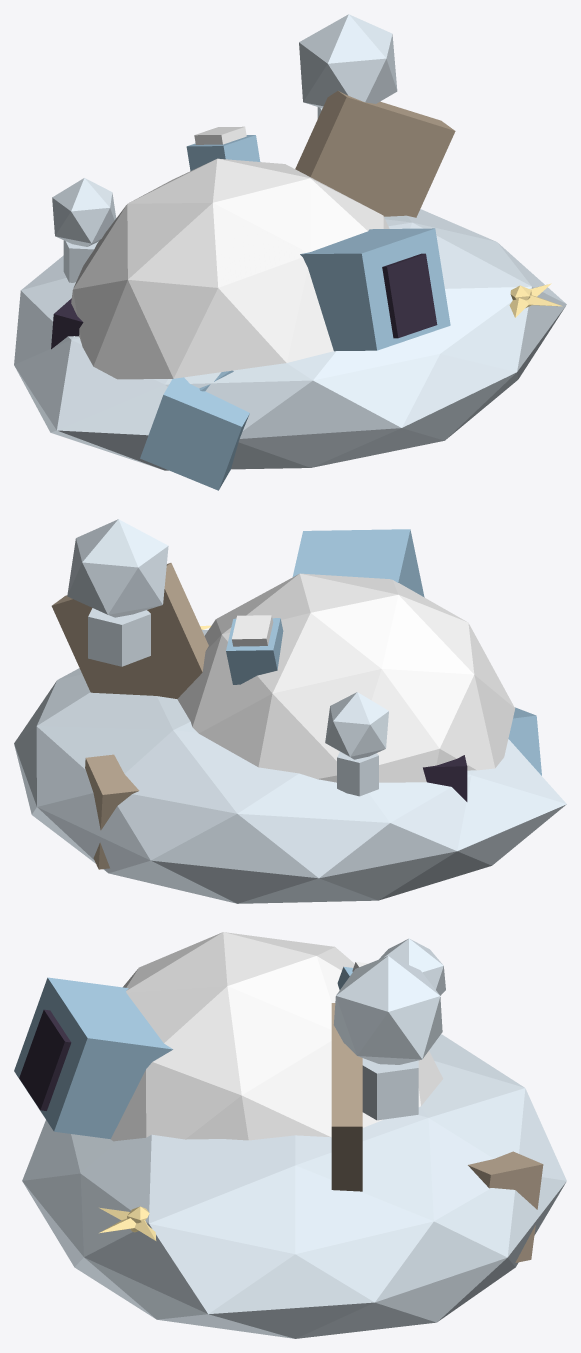
The model's file is ice-ruin.glb.
3 views of the same model, one above another, from view 1: azimuth 30°, elevation 25°; view 2: azimuth 150°, elevation 25°; view 3: azimuth 270°, elevation 25° (orthographic). The views are drawn at different scales.
Visible parts, largest first — view 1: ice-ruin; view 2: ice-ruin; view 3: ice-ruin.
Boxes of the visible parts, x1,y1,x2,y2 form: ice-ruin: [14, 14, 566, 490]; ice-ruin: [14, 519, 566, 903]; ice-ruin: [14, 932, 566, 1338].
Size of the model in its own units: 1.25 by 0.7194 by 1.07.
